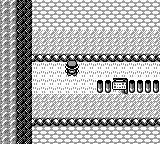leer: (113, 79, 128, 93)
main: (65, 61, 79, 75)
no-caminable: (0, 1, 32, 144), (130, 80, 159, 93), (97, 79, 111, 93)
salto: (32, 54, 160, 62), (32, 118, 159, 126)
